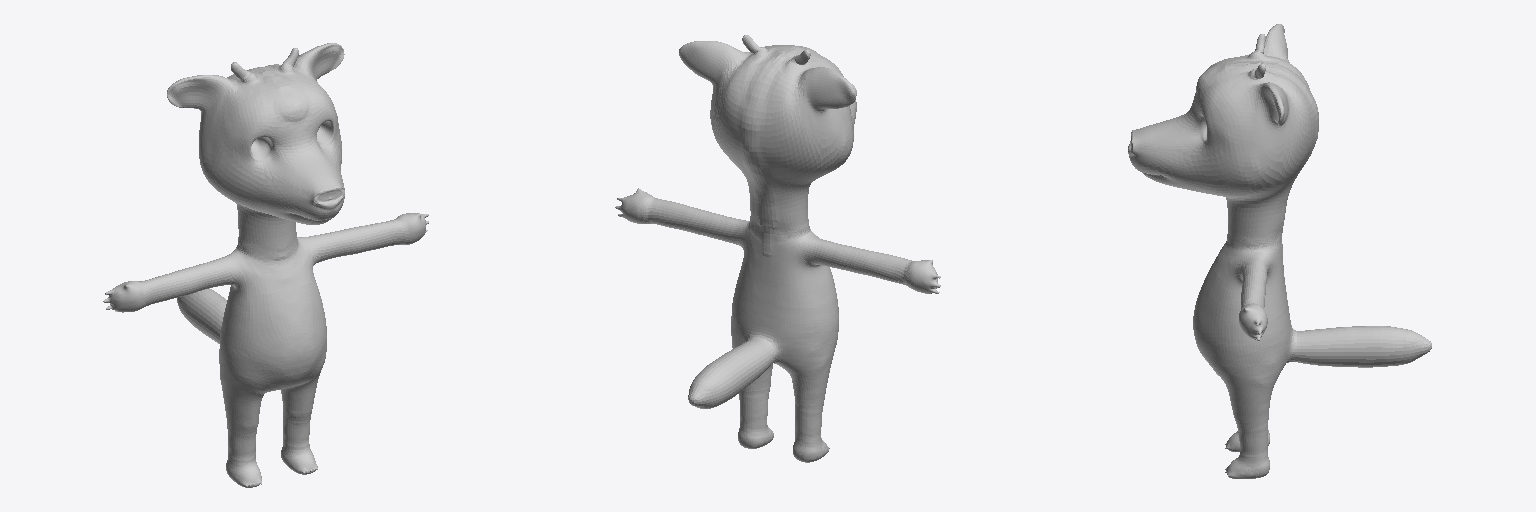
File: rabit.obj
3 renders of one model, left to right at view 1: azimuth 30°, elevation 25°; view 2: azimuth 150°, elevation 25°; view 3: azimuth 270°, elevation 25°, orthographic.
Size of the model in its own units: 0.7501 by 0.9128 by 0.6082.